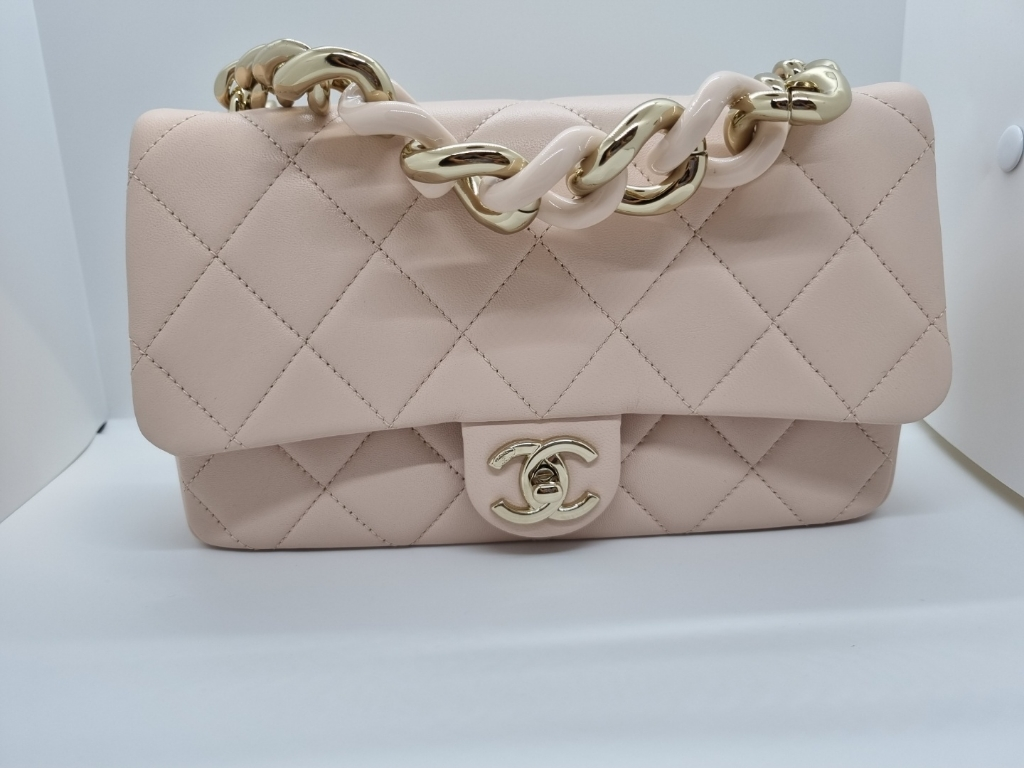channel: (88, 53, 1001, 599), (418, 122, 710, 239), (459, 412, 646, 548)
